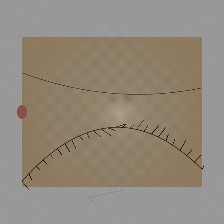foreign_body_visible: (92, 104, 123, 129)
